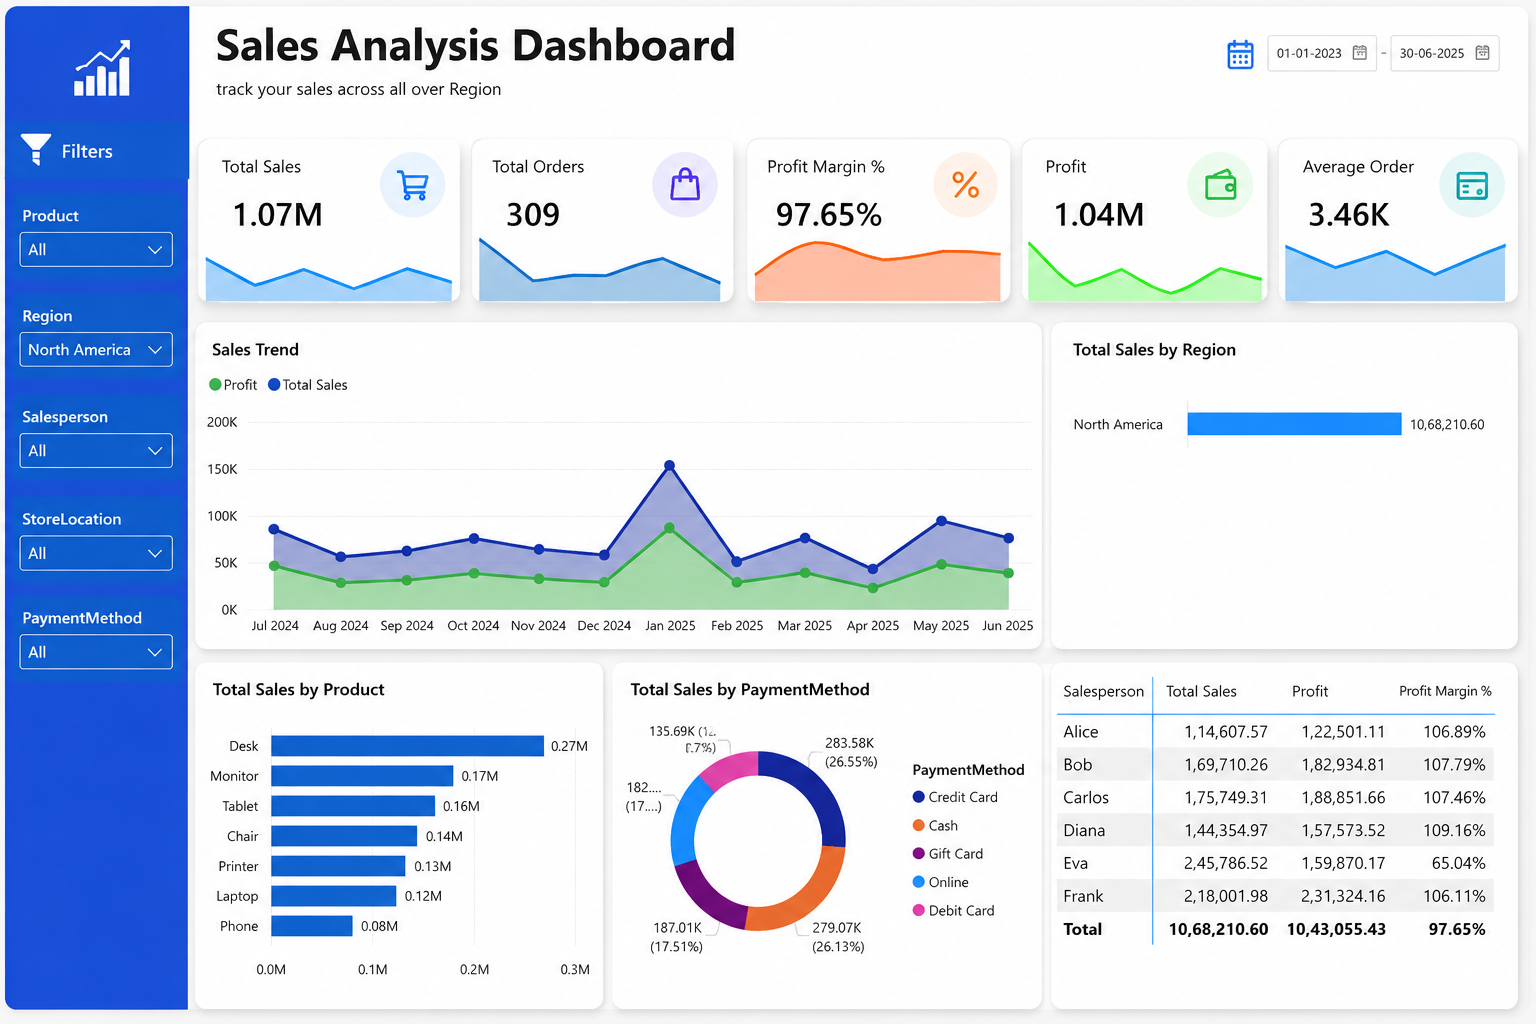

What the dashboard file says about the page in this screenshot:
{"tool":"powerbi","page":{"name":"Page 1","canvas":[1480,820],"ordinal":0},"visuals":[{"type":"shape","box":[1220.8,123.5,245,135],"z":0},{"type":"textbox","box":[9.6,0,791.8,118],"z":1000},{"type":"textbox","box":[134.5,59,484.4,59],"z":2000},{"type":"shape","box":[9.6,0,155,820],"z":3000},{"type":"shape","box":[164.2,119.8,245,135],"z":4000},{"type":"shape","box":[420.5,120.4,262.6,134.4],"z":5000},{"type":"shape","box":[703.4,121.9,245,135],"z":6000},{"type":"textbox","box":[164.2,347.8,212.5,61.8],"z":7000},{"type":"textbox","box":[420.5,118.8,161,53.1],"z":8000},{"type":"textbox","box":[967.6,128.2,159.4,46.9],"z":9000},{"type":"textbox","box":[703.4,121.9,167.3,51.6],"z":10000},{"type":"textbox","box":[1234.9,123.5,157.9,54.7],"z":11000},{"type":"textbox","box":[164.1,118.8,161,53.1],"z":12000},{"type":"cardVisual","fields":{"Data":["Measure.Total Sales"]},"box":[160.9,141.6,143.8,82.8],"z":13000},{"type":"cardVisual","fields":{"Data":["Measure.Total Orders"]},"box":[421.4,150.4,144.4,65.3],"z":14000},{"type":"cardVisual","fields":{"Data":["Measure.Profit Margin %"]},"box":[692.5,156.3,189.9,69.3],"z":15000},{"type":"shape","box":[959.8,123.5,245,135],"z":16000},{"type":"cardVisual","fields":{"Data":["Measure.Profit"]},"box":[957.6,152.4,150.4,67.3],"z":17000},{"type":"cardVisual","fields":{"Data":["Measure.Average Order Value"]},"box":[1220.8,154.3,152.4,71.2],"z":18000},{"type":"textbox","box":[959.6,122.7,150.4,37.6],"z":19000},{"type":"image","box":[302.4,128.7,106.2,80.4],"z":20000},{"type":"image","box":[1372.2,117.4,93.3,98.1],"z":21000},{"type":"image","box":[588.8,119,93.3,90.1],"z":22000},{"type":"image","box":[1089.1,119,115.8,77.2],"z":23000},{"type":"image","box":[855.8,128.7,101.3,64.3],"z":24000},{"type":"areaChart","fields":{"Y":["Measure.Total Sales"],"Category":["Calendar.Month Year"]},"box":[142.2,173.5,286.9,87.1],"z":25000},{"type":"areaChart","fields":{"Y":["Measure.Total Orders"],"Category":["Calendar.Month Year"]},"box":[395.7,174.1,286.9,87.1],"z":26000},{"type":"areaChart","fields":{"Y":["Measure.Profit Margin %"],"Category":["Calendar.Month Year"]},"box":[672.7,178.3,286.9,87.1],"z":27000},{"type":"areaChart","fields":{"Y":["Measure.Profit"],"Category":["Calendar.Month Year"]},"box":[933.9,178.1,286.9,87.1],"z":28000},{"type":"areaChart","fields":{"Y":["Measure.Average Order Value"],"Category":["Calendar.Month Year"]},"box":[1193.1,178.1,286.9,87.1],"z":29000},{"type":"stackedAreaChart","title":" Sales Trend","fields":{"Category":["Calendar.Month Year"],"Y":["Measure.Profit","Measure.Total Sales"]},"box":[165.7,265.7,822.2,259.5],"z":30000},{"type":"pivotTable","fields":{"Rows":["Sales.Region"],"Values":["Measure.Sales BAR","Measure.Total Sales"]},"box":[987.9,265.7,479.9,259.5],"z":31000},{"type":"clusteredBarChart","fields":{"Y":["Measure.Total Sales"],"Category":["Sales.Product"]},"box":[164.1,545.5,425.2,275.1],"z":32000},{"type":"donutChart","fields":{"Y":["Measure.Total Sales"],"Category":["Sales.PaymentMethod"]},"box":[608.1,545.5,386.1,275.1],"z":33000},{"type":"pivotTable","fields":{"Rows":["Sales.Salesperson"],"Values":["Measure.Total Sales","Measure.Profit","Measure.Profit Margin %"]},"box":[994,546,474,274],"z":34000},{"type":"slicer","fields":{"Values":["Sales.Product"]},"box":[12.9,141.6,148.5,68.8],"z":35000},{"type":"slicer","fields":{"Values":["Sales.Region"]},"box":[9.7,231.7,148.5,68.8],"z":36000},{"type":"slicer","fields":{"Values":["Sales.Salesperson"]},"box":[12.9,326.6,148.5,68.8],"z":37000},{"type":"slicer","fields":{"Values":["Sales.StoreLocation"]},"box":[9.7,426.3,148.5,68.8],"z":38000},{"type":"slicer","fields":{"Values":["Sales.PaymentMethod"]},"box":[9.7,524.4,148.5,68.8],"z":39000},{"type":"textbox","box":[12.9,80.4,148,37],"z":40000},{"type":"image","box":[12.9,78.8,41.8,41.8],"z":41000},{"type":"image","box":[23,20,210.7,59.5],"z":42000},{"type":"slicer","fields":{"Values":["Calendar.Date"]},"box":[1238.7,14.5,241.3,66],"z":43000},{"type":"image","box":[1200.1,25.7,49.9,45],"z":44000}]}

Visuals, with their boxes on the page's 1480x820 design canvas (x1, y1, x2, y2). These are canvas units, not pixel positions in the 1536x1024 screenshot, which may show the page scaled, cropped or inside an application window:
shape: x1=1221 y1=124 x2=1466 y2=258
textbox: x1=10 y1=0 x2=801 y2=118
textbox: x1=134 y1=59 x2=619 y2=118
shape: x1=10 y1=0 x2=165 y2=820
shape: x1=164 y1=120 x2=409 y2=255
shape: x1=420 y1=120 x2=683 y2=255
shape: x1=703 y1=122 x2=948 y2=257
textbox: x1=164 y1=348 x2=377 y2=410
textbox: x1=420 y1=119 x2=582 y2=172
textbox: x1=968 y1=128 x2=1127 y2=175
textbox: x1=703 y1=122 x2=871 y2=174
textbox: x1=1235 y1=124 x2=1393 y2=178
textbox: x1=164 y1=119 x2=325 y2=172
cardVisual - Measure.Total Sales: x1=161 y1=142 x2=305 y2=224
cardVisual - Measure.Total Orders: x1=421 y1=150 x2=566 y2=216
cardVisual - Measure.Profit Margin %: x1=692 y1=156 x2=882 y2=226
shape: x1=960 y1=124 x2=1205 y2=258
cardVisual - Measure.Profit: x1=958 y1=152 x2=1108 y2=220
cardVisual - Measure.Average Order Value: x1=1221 y1=154 x2=1373 y2=226
textbox: x1=960 y1=123 x2=1110 y2=160
image: x1=302 y1=129 x2=409 y2=209
image: x1=1372 y1=117 x2=1466 y2=216
image: x1=589 y1=119 x2=682 y2=209
image: x1=1089 y1=119 x2=1205 y2=196
image: x1=856 y1=129 x2=957 y2=193
areaChart - Measure.Total Sales x Calendar.Month Year: x1=142 y1=174 x2=429 y2=261
areaChart - Measure.Total Orders x Calendar.Month Year: x1=396 y1=174 x2=683 y2=261
areaChart - Measure.Profit Margin % x Calendar.Month Year: x1=673 y1=178 x2=960 y2=265
areaChart - Measure.Profit x Calendar.Month Year: x1=934 y1=178 x2=1221 y2=265
areaChart - Measure.Average Order Value x Calendar.Month Year: x1=1193 y1=178 x2=1480 y2=265
" Sales Trend" stackedAreaChart: x1=166 y1=266 x2=988 y2=525
pivotTable - Sales.Region x Measure.Sales BAR: x1=988 y1=266 x2=1468 y2=525
clusteredBarChart - Measure.Total Sales x Sales.Product: x1=164 y1=546 x2=589 y2=821
donutChart - Measure.Total Sales x Sales.PaymentMethod: x1=608 y1=546 x2=994 y2=821
pivotTable - Sales.Salesperson x Measure.Total Sales: x1=994 y1=546 x2=1468 y2=820
slicer - Sales.Product: x1=13 y1=142 x2=161 y2=210
slicer - Sales.Region: x1=10 y1=232 x2=158 y2=300
slicer - Sales.Salesperson: x1=13 y1=327 x2=161 y2=395
slicer - Sales.StoreLocation: x1=10 y1=426 x2=158 y2=495
slicer - Sales.PaymentMethod: x1=10 y1=524 x2=158 y2=593
textbox: x1=13 y1=80 x2=161 y2=117
image: x1=13 y1=79 x2=55 y2=121
image: x1=23 y1=20 x2=234 y2=80
slicer - Calendar.Date: x1=1239 y1=14 x2=1480 y2=80
image: x1=1200 y1=26 x2=1250 y2=71
